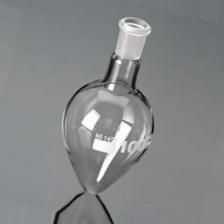Pear shaped flask: (58, 10, 160, 193)
